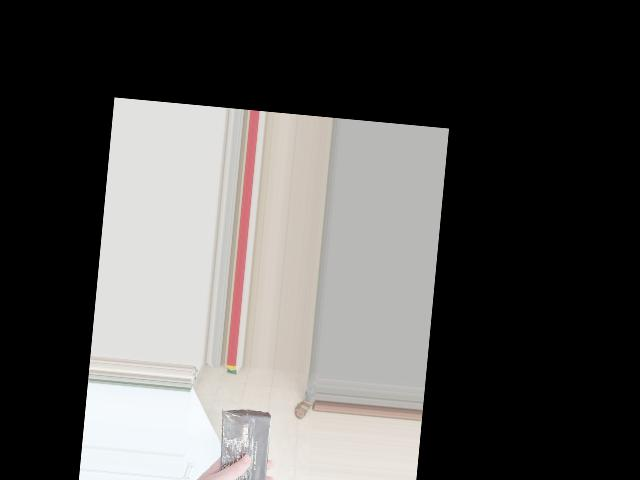chocolate: (212, 403, 272, 480)
